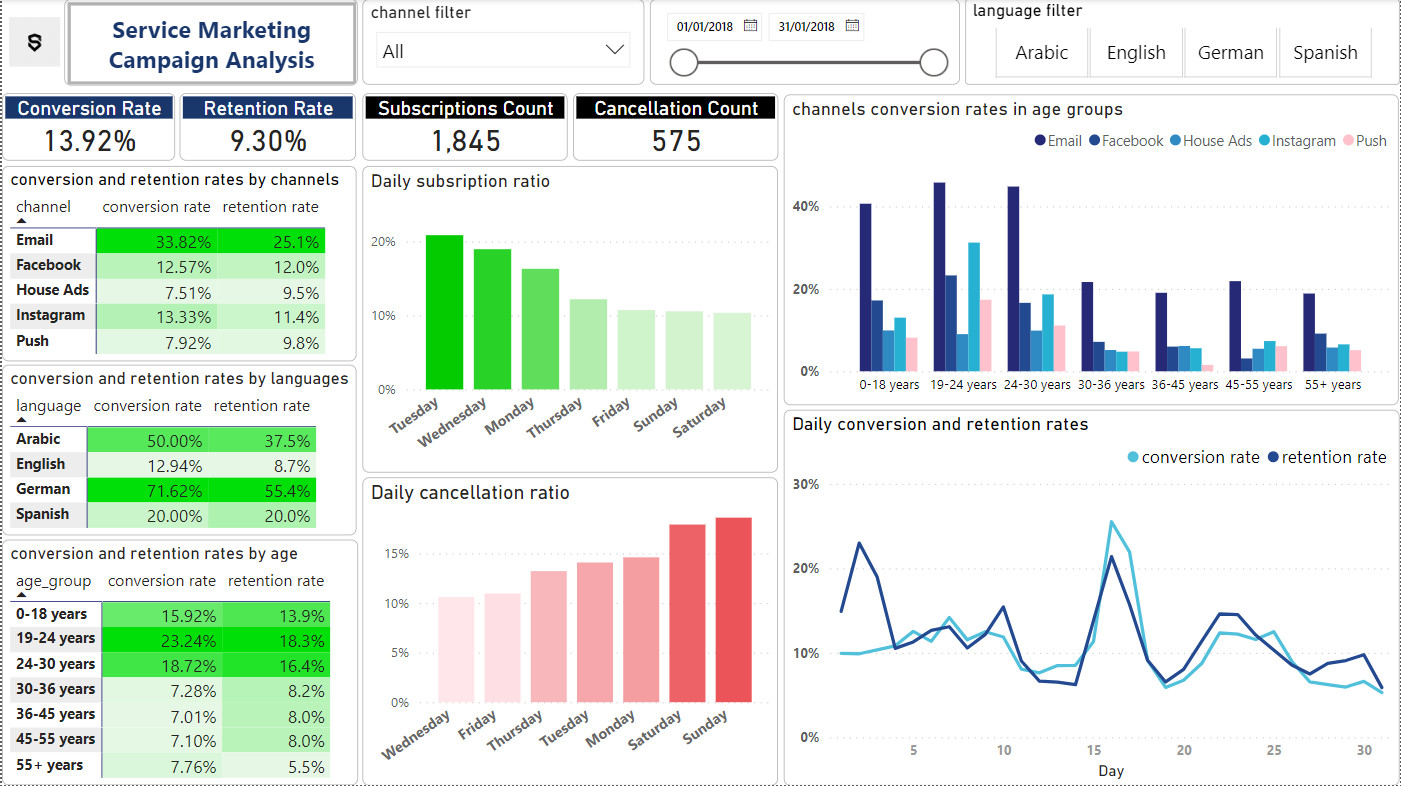

What the dashboard file says about the page in this screenshot:
{"tool":"powerbi","page":{"name":"Page ١","canvas":[1280,720],"ordinal":0},"visuals":[{"type":"card","title":"Subscriptions Count","fields":{"Values":["CountNonNull(final marketing.DOW_subscribe)"]},"box":[330.2,85.7,188,62],"z":0},{"type":"lineChart","title":"Daily conversion and retention rates","fields":{"Y":["_measure.conversion rate","_measure.retention rate"],"Category":["final marketing.date_served.Variation.Date Hierarchy.Day"]},"box":[715.6,376,564,344.5],"z":1000},{"type":"slicer","title":"days slicer","fields":{"Values":["final marketing.date_served"]},"box":[593.1,0,283.8,78.8],"z":2000},{"type":"slicer","title":"language filter","fields":{"Values":["final marketing.language_displayed"]},"box":[882.1,0,397.8,78.8],"z":3000},{"type":"card","title":"Cancellation Count","fields":{"Values":["CountNonNull(final marketing.DOW_cancel)"]},"box":[523.1,85.7,187.8,61.8],"z":4000},{"type":"pivotTable","title":"conversion and retention rates by channels","fields":{"Values":["_measure.conversion rate","_measure.retention rate"],"Rows":["final marketing.marketing_channel"]},"box":[0,152.3,324.5,178.8],"z":5000},{"type":"clusteredColumnChart","title":"channels conversion rates in age groups ","fields":{"Y":["_measure.conversion rate"],"Series":["final marketing.marketing_channel"],"Category":["final marketing.age_group"]},"box":[715.9,87,563.4,284.8],"z":6000},{"type":"clusteredColumnChart","title":"Daily cancellation ratio","fields":{"Category":["final marketing.DOW_cancel"],"Y":["Divide(CountNonNull(final marketing.DOW_cancel), ScopedEval(CountNonNull(final marketing.DOW_cancel), []))"]},"box":[330.2,437.3,380.6,282.3],"z":7000},{"type":"slicer","title":"channel filter","fields":{"Values":["final marketing.marketing_channel"]},"box":[329.9,0,258.4,78.8],"z":8000},{"type":"shape","box":[56.7,0,268.5,79.4],"z":9000},{"type":"image","box":[1.2,0,57,78.8],"z":10000},{"type":"pivotTable","title":"conversion and retention rates by languages","fields":{"Values":["_measure.conversion rate","_measure.retention rate"],"Rows":["final marketing.language_displayed"]},"box":[0,335.1,324.5,156.3],"z":11000},{"type":"clusteredColumnChart","title":"Daily subsription ratio","fields":{"Category":["final marketing.DOW_subscribe"],"Y":["Divide(CountNonNull(final marketing.DOW_subscribe), ScopedEval(CountNonNull(final marketing.DOW_subscribe), []))"]},"box":[330.2,152.5,380.6,281],"z":12000},{"type":"card","title":"Conversion Rate","fields":{"Values":["_measure.conversion rate"]},"box":[0,85.7,158.8,62],"z":13000},{"type":"card","title":"Retention Rate","fields":{"Values":["_measure.retention rate"]},"box":[162.6,85.7,161.3,61.8],"z":14000},{"type":"pivotTable","title":"conversion and retention rates by age","fields":{"Values":["_measure.conversion rate","_measure.retention rate"],"Rows":["final marketing.age_group"]},"box":[0,495.4,325.8,225.2],"z":15000}]}

Visuals, with their boxes in screenshot pixels (x1, y1, x2, y2), scaled from the page's 1280x720 canvas onto the 1401x786 screenshot:
"Subscriptions Count" card: 361, 94, 567, 161
"Daily conversion and retention rates" lineChart: 783, 410, 1400, 785
"days slicer" slicer: 649, 0, 960, 86
"language filter" slicer: 965, 0, 1400, 86
"Cancellation Count" card: 573, 94, 778, 161
"conversion and retention rates by channels" pivotTable: 0, 166, 355, 361
"channels conversion rates in age groups " clusteredColumnChart: 784, 95, 1400, 406
"Daily cancellation ratio" clusteredColumnChart: 361, 477, 778, 785
"channel filter" slicer: 361, 0, 644, 86
shape: 62, 0, 356, 87
image: 1, 0, 64, 86
"conversion and retention rates by languages" pivotTable: 0, 366, 355, 536
"Daily subsription ratio" clusteredColumnChart: 361, 166, 778, 473
"Conversion Rate" card: 0, 94, 174, 161
"Retention Rate" card: 178, 94, 355, 161
"conversion and retention rates by age" pivotTable: 0, 541, 357, 785
